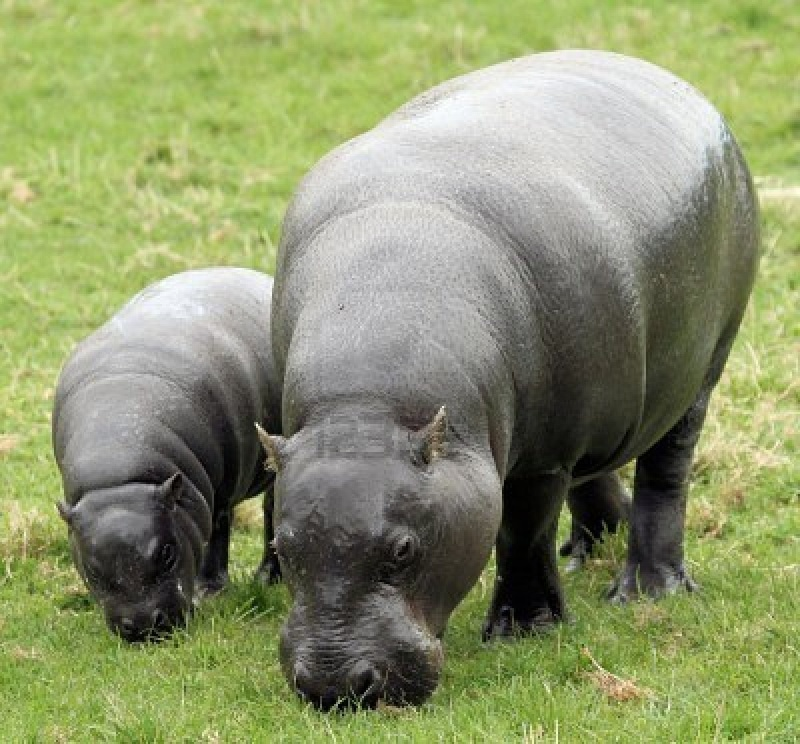hipopotamo: (262, 46, 772, 714), (42, 262, 283, 660)
